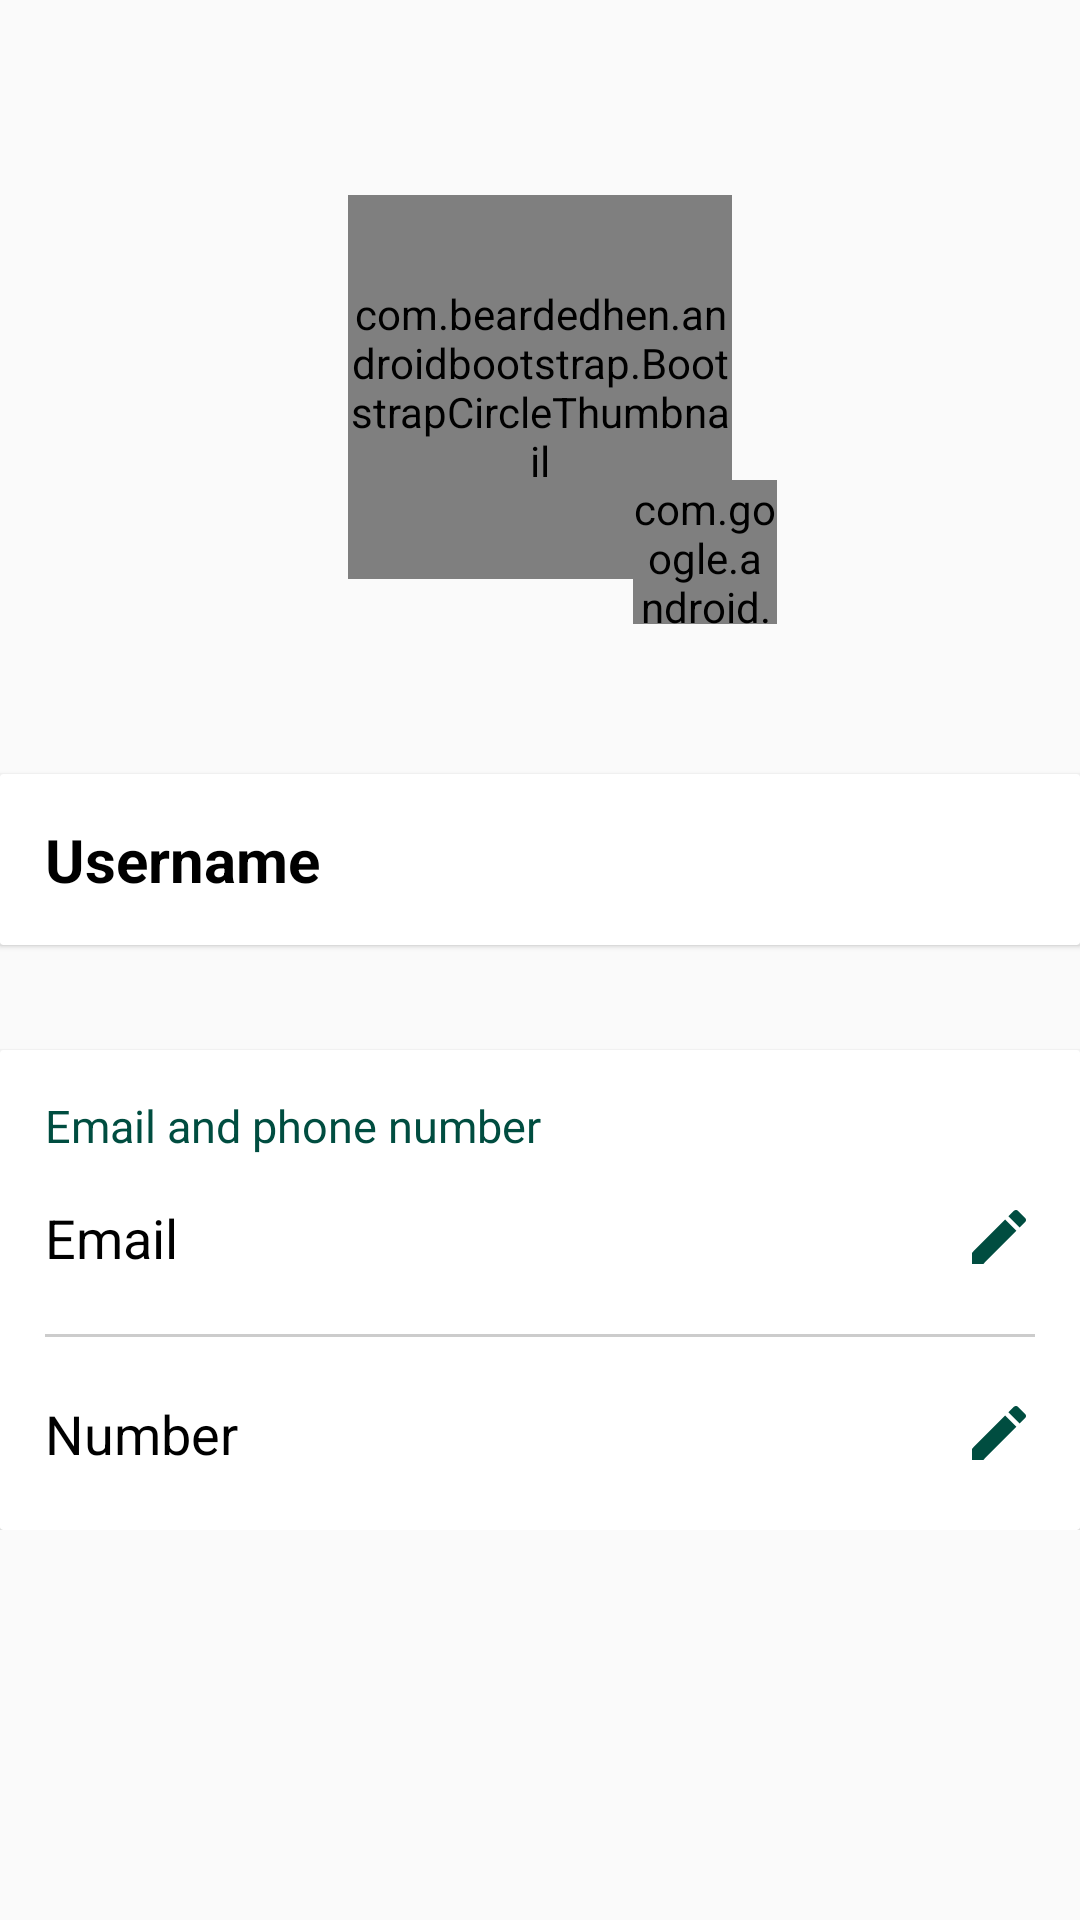

Icon bounding boxes for this 1080px x 1920px phone screenshot, format Rect(x1, y1, x2, y2):
mode edit: Rect(972, 1210, 1026, 1264), Rect(972, 1406, 1026, 1460)
